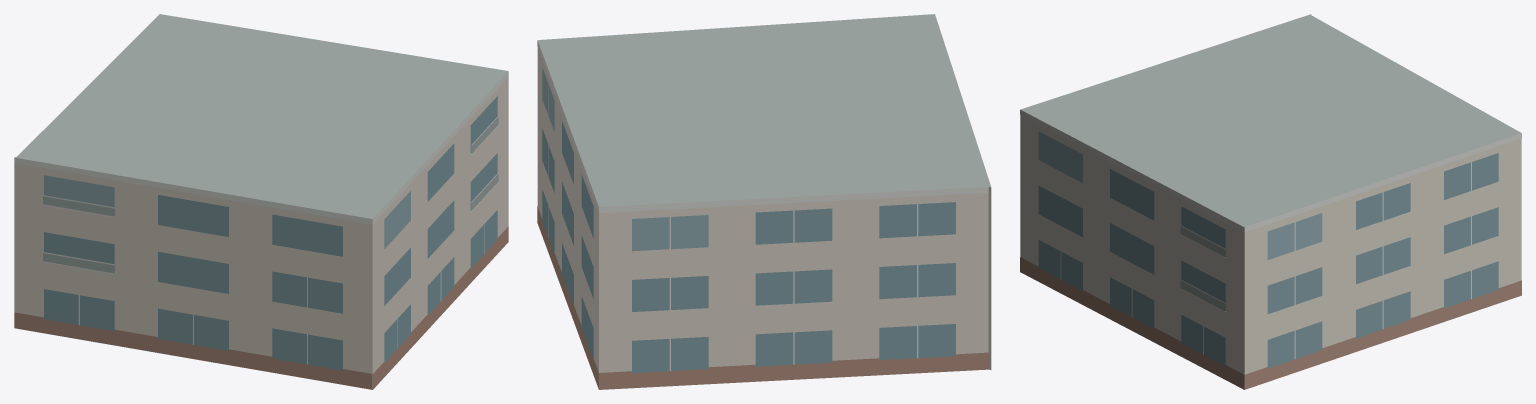
File: survey-upis-33045354.glb
3 renders of one model, left to right at view 1: azimuth 30°, elevation 25°; view 2: azimuth 150°, elevation 25°; view 3: azimuth 270°, elevation 25°, orthographic. The views are drawn at different scales.
Visible parts, largest first — view 1: survey-upis-33045354.tmp; view 2: survey-upis-33045354.tmp; view 3: survey-upis-33045354.tmp.
Part boxes in pixels (x1,y1,x2,y2): survey-upis-33045354.tmp: (14, 14, 508, 389); survey-upis-33045354.tmp: (537, 14, 991, 389); survey-upis-33045354.tmp: (1020, 14, 1521, 389).
Bounding box in the file's own units: 21.41 × 7.6 × 21.26.
